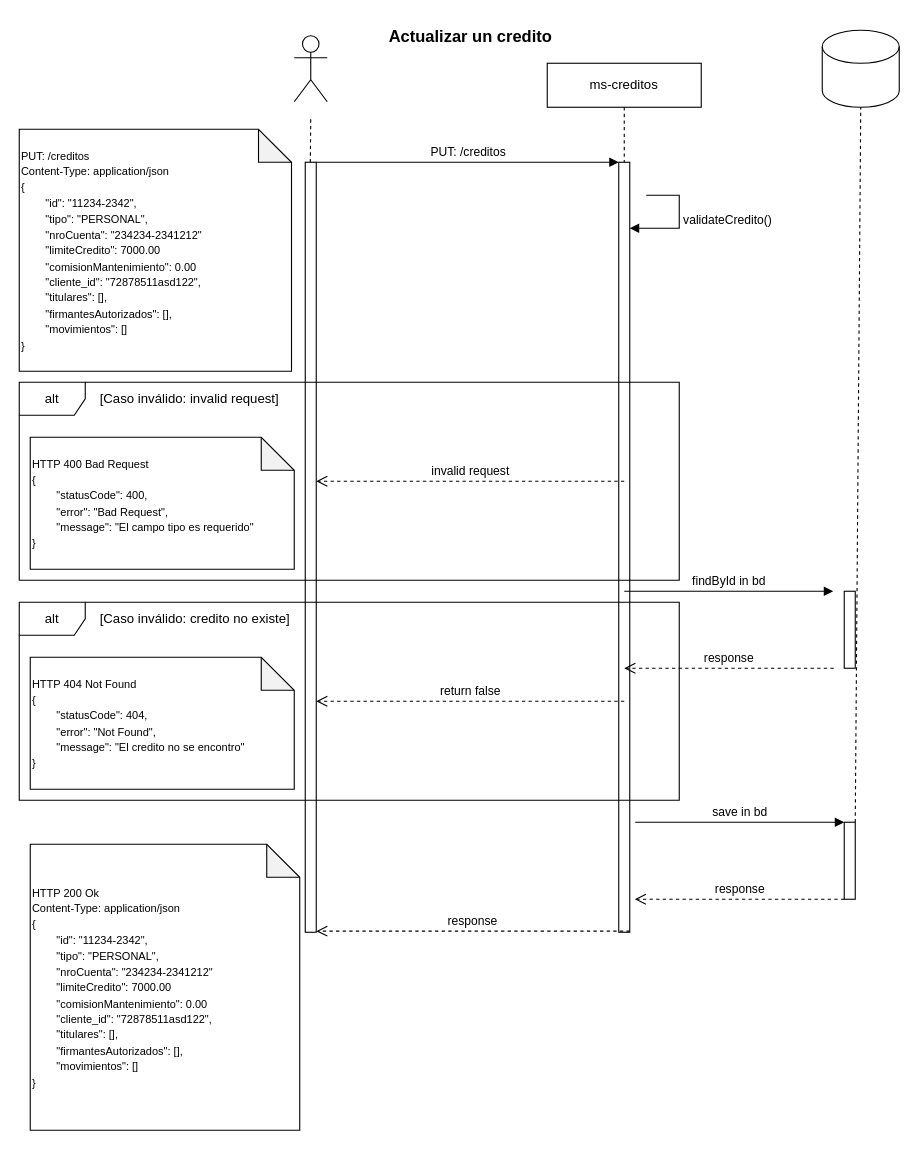
This 919x1150 diagram has some shape labels left out. Here are the shapes that lost their labels. From the top down, the centre of each, then its label:
pixel 310 68: Cliente
pixel 860 68: MongoDb
